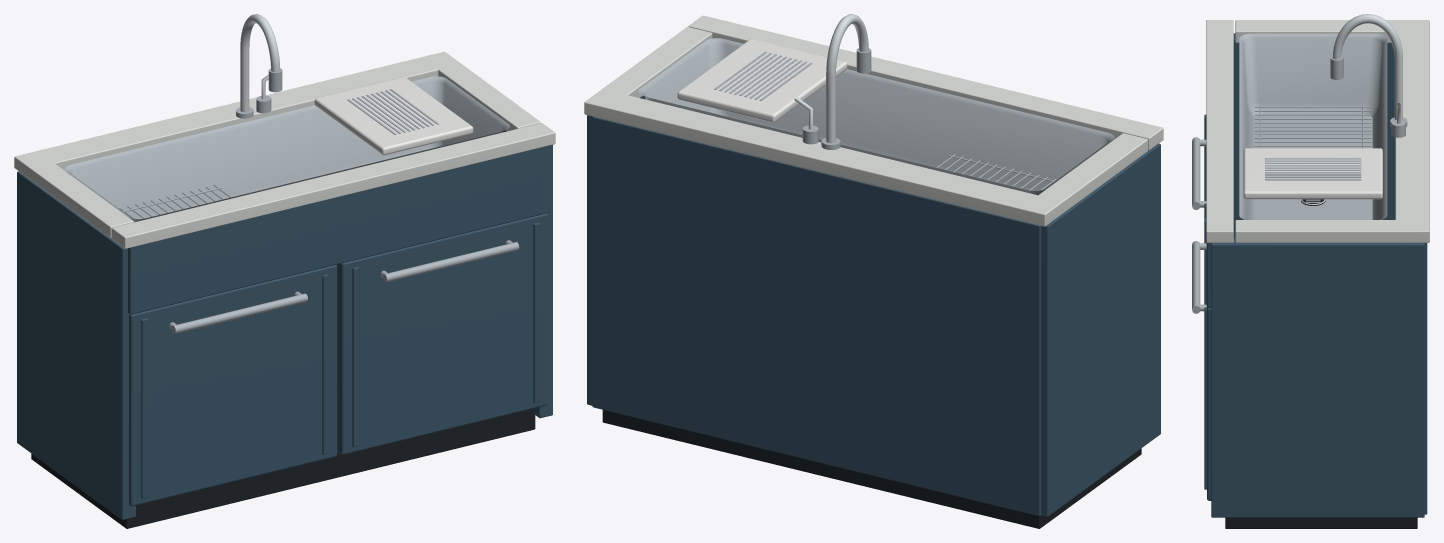
The model's file is luxury-workstation-sink.glb.
3 views of the same model, side by side, from view 1: azimuth 30°, elevation 25°; view 2: azimuth 150°, elevation 25°; view 3: azimuth 270°, elevation 25° (orthographic). The views are drawn at different scales.
Visible parts, largest first — view 1: luxury-workstation-sink; view 2: luxury-workstation-sink; view 3: luxury-workstation-sink.
Part boxes in pixels (x1,y1,x2,y2): luxury-workstation-sink: (14,14,555,528); luxury-workstation-sink: (584,14,1163,528); luxury-workstation-sink: (1192,14,1429,528).
Bounding box in the file's own units: 1.37 × 1.25 × 0.65.
